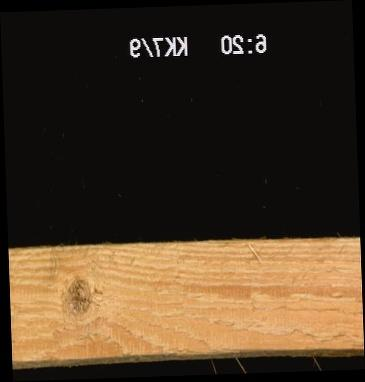sound_knot: (57, 270, 96, 321)
